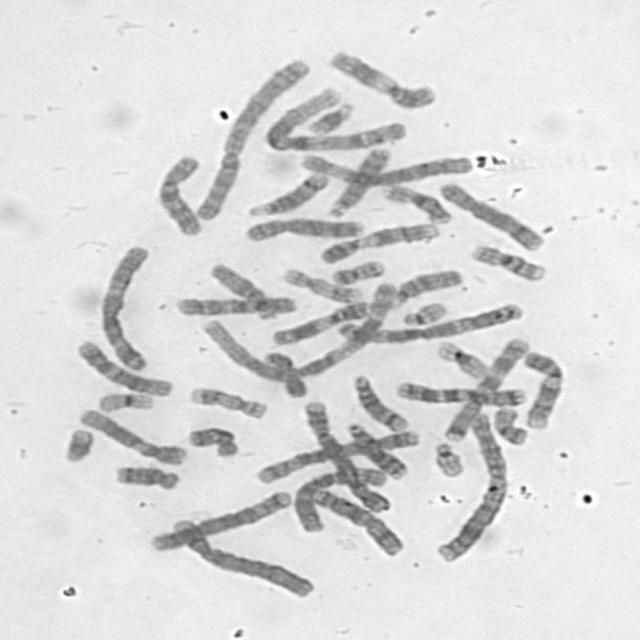A1: (260, 85, 409, 153), (198, 316, 313, 398)
A2: (189, 53, 310, 221), (430, 406, 513, 564)
A3: (334, 298, 528, 344), (94, 240, 154, 373)
B4: (164, 513, 317, 600), (298, 396, 394, 515)
B5: (143, 485, 296, 553), (251, 426, 423, 486)
C10: (150, 150, 207, 237), (170, 290, 301, 317)
C11: (324, 45, 442, 111), (268, 296, 374, 346)
C12: (73, 404, 191, 466), (72, 336, 176, 398)
C6: (293, 148, 474, 188), (291, 462, 391, 534)
C7: (435, 334, 534, 443), (390, 376, 530, 408)
C8: (434, 177, 549, 252), (239, 212, 368, 243)
C9: (316, 218, 440, 266), (518, 346, 569, 431)
D13: (324, 142, 396, 217), (340, 419, 409, 482)
D14: (242, 168, 332, 218), (346, 370, 410, 433)
D15: (205, 260, 280, 321), (388, 265, 467, 306)
E16: (466, 240, 550, 283), (377, 180, 455, 225)
E17: (278, 263, 365, 304), (182, 382, 270, 421)
E18: (109, 461, 184, 492), (182, 422, 242, 459)
F19: (430, 336, 491, 380), (94, 387, 158, 413)
F20: (326, 255, 388, 287), (489, 402, 530, 447)
G21: (303, 98, 358, 136), (58, 423, 96, 465)
G22: (397, 296, 451, 327), (429, 438, 467, 478)
X: (307, 485, 406, 557)
